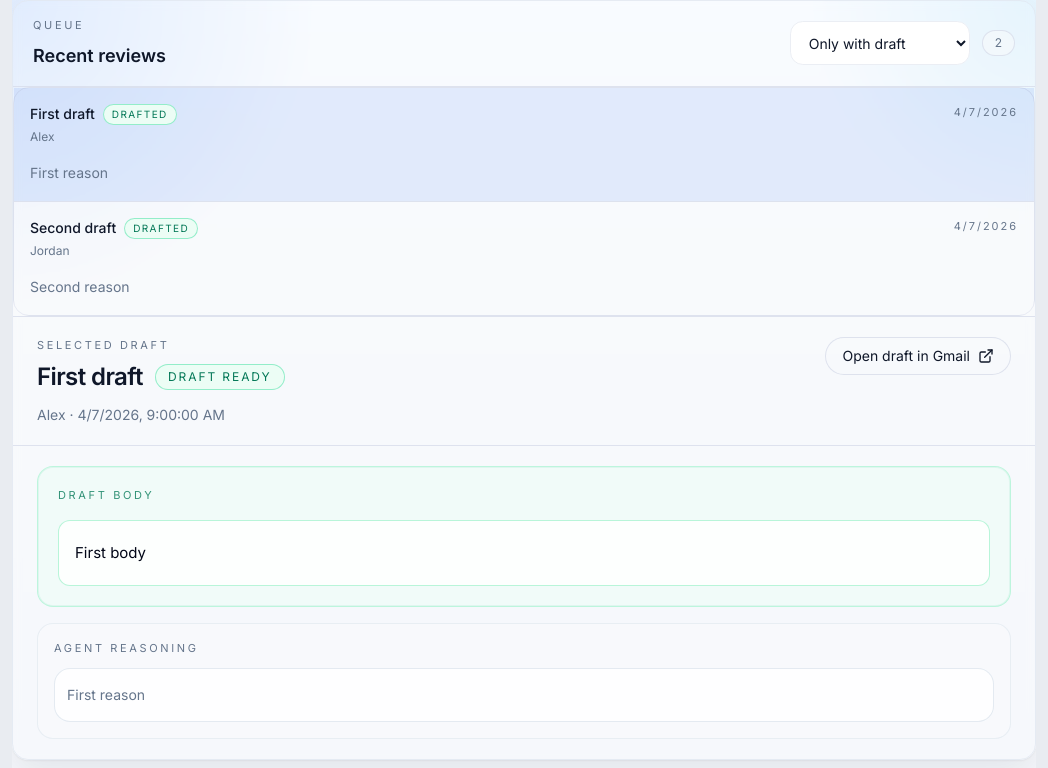
Test: DraftWorkspace › lets the user inspect a different draft
Expected: the heading "First draft" is shown, left=37, top=361, right=143, bottom=393
Click the button "Second draft Drafted Jordan 4/7/2026 Second reason" at (73, 228), box left=14, top=200, right=1034, bottom=314
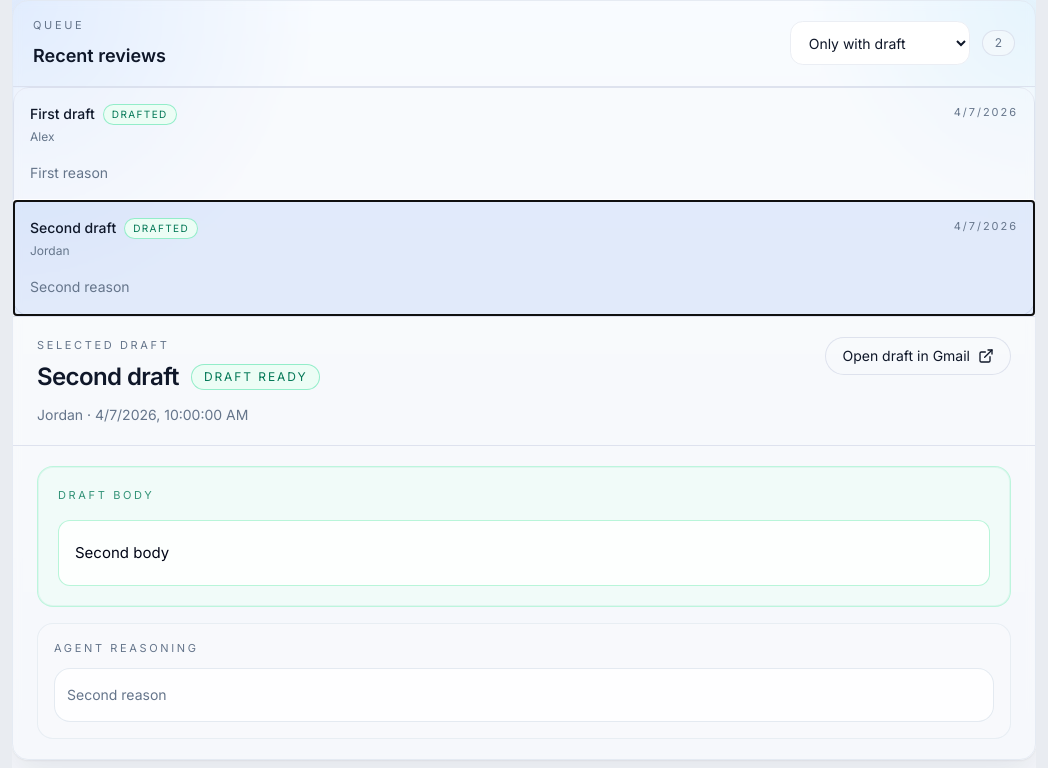
Expected: the text "Second reason" is shown 2 times, left=30, top=278, right=130, bottom=294; left=54, top=668, right=994, bottom=722
Result: the heading "Second draft" is shown at left=37, top=361, right=179, bottom=393
Result: the text "Second body" is shown at left=58, top=520, right=990, bottom=586
